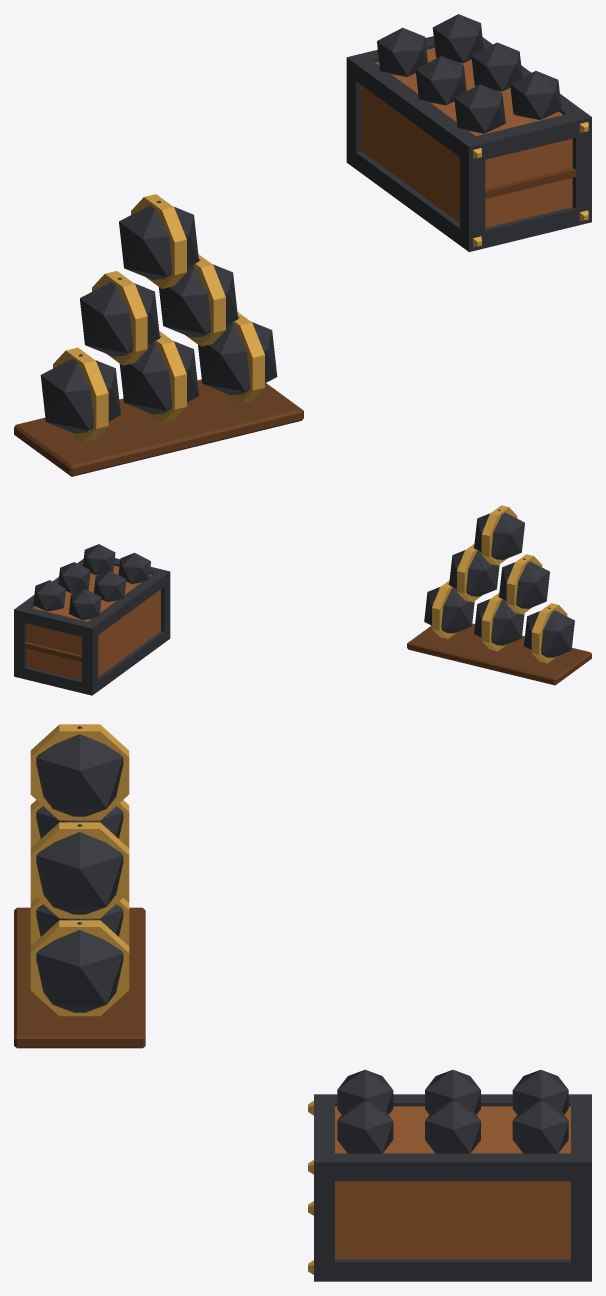
Rendered from MortarDressB2.obj.
3 renders of one model, top to bottom at view 1: azimuth 30°, elevation 25°; view 2: azimuth 150°, elevation 25°; view 3: azimuth 270°, elevation 25°, orthographic. The views are drawn at different scales.
Parts seen in each view (by area): view 1: MortarDressB2; view 2: MortarDressB2; view 3: MortarDressB2.
Boxes of the visible parts, bbox=[...] form: MortarDressB2: bbox=[14, 14, 591, 476]; MortarDressB2: bbox=[14, 505, 591, 695]; MortarDressB2: bbox=[14, 724, 591, 1281].
Bounding box in the file's own units: 1.17 × 0.39 × 0.79.
